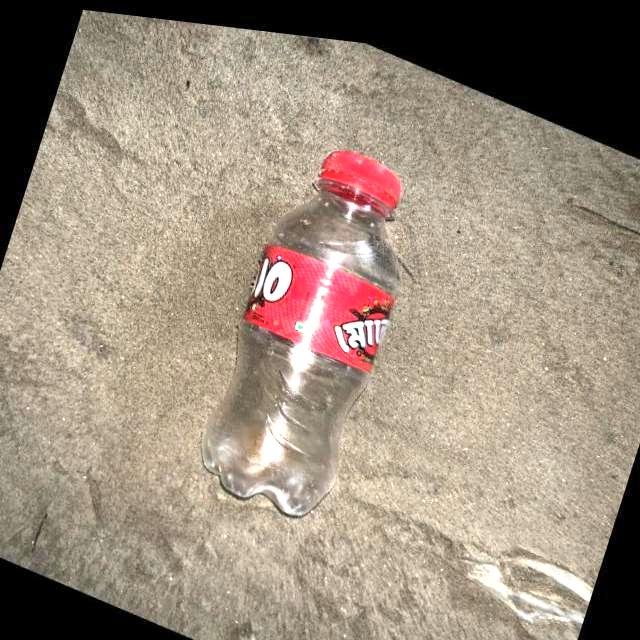bottle: (186, 147, 429, 534)
